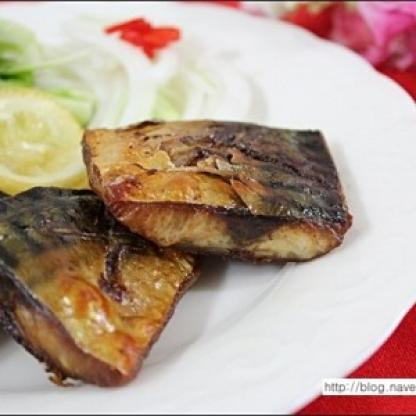Peixe: (91, 112, 371, 258), (0, 184, 177, 390)
